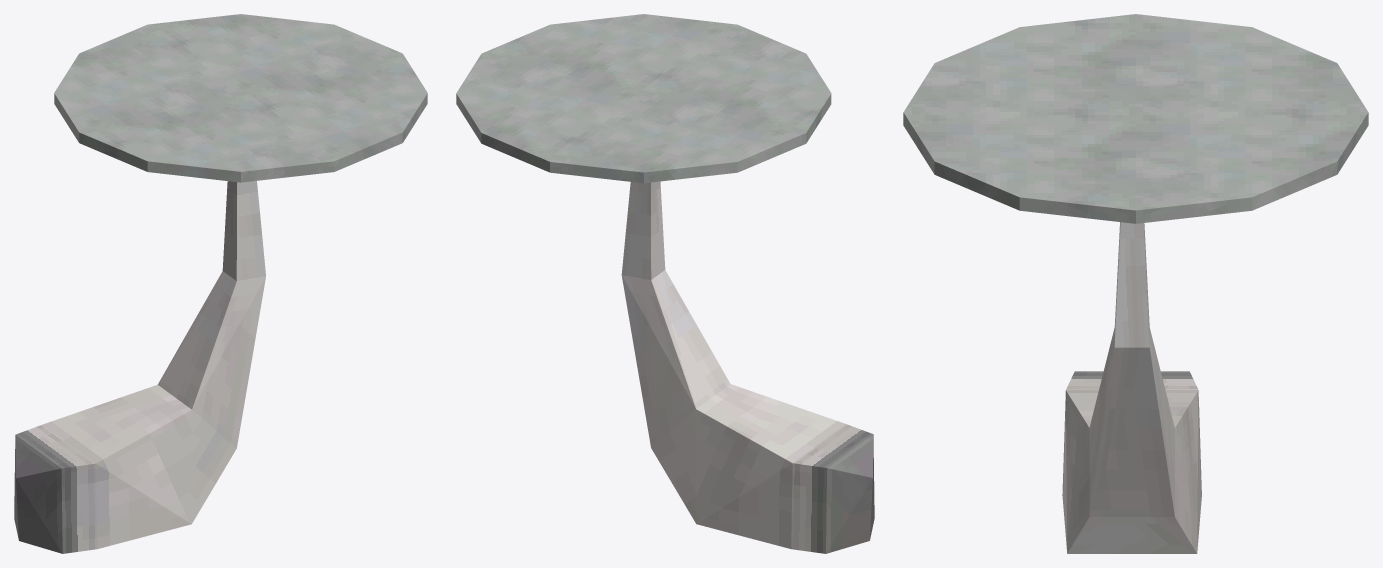
The model's file is frn_all_mdrn_end_table_sml_s01_l2.fbx.
The picture shows the model from 3 angles, left to right: view 1: azimuth 30°, elevation 25°; view 2: azimuth 150°, elevation 25°; view 3: azimuth 270°, elevation 25°; orthographic projection. The views are drawn at different scales.
Visible parts, largest first — view 1: mesh_node; view 2: mesh_node; view 3: mesh_node.
Boxes of the visible parts, bbox=[...] form: mesh_node: bbox=[14, 14, 427, 553]; mesh_node: bbox=[456, 14, 874, 553]; mesh_node: bbox=[903, 14, 1368, 553].
Size of the model in its own units: 0.7561 by 0.73 by 0.63.
